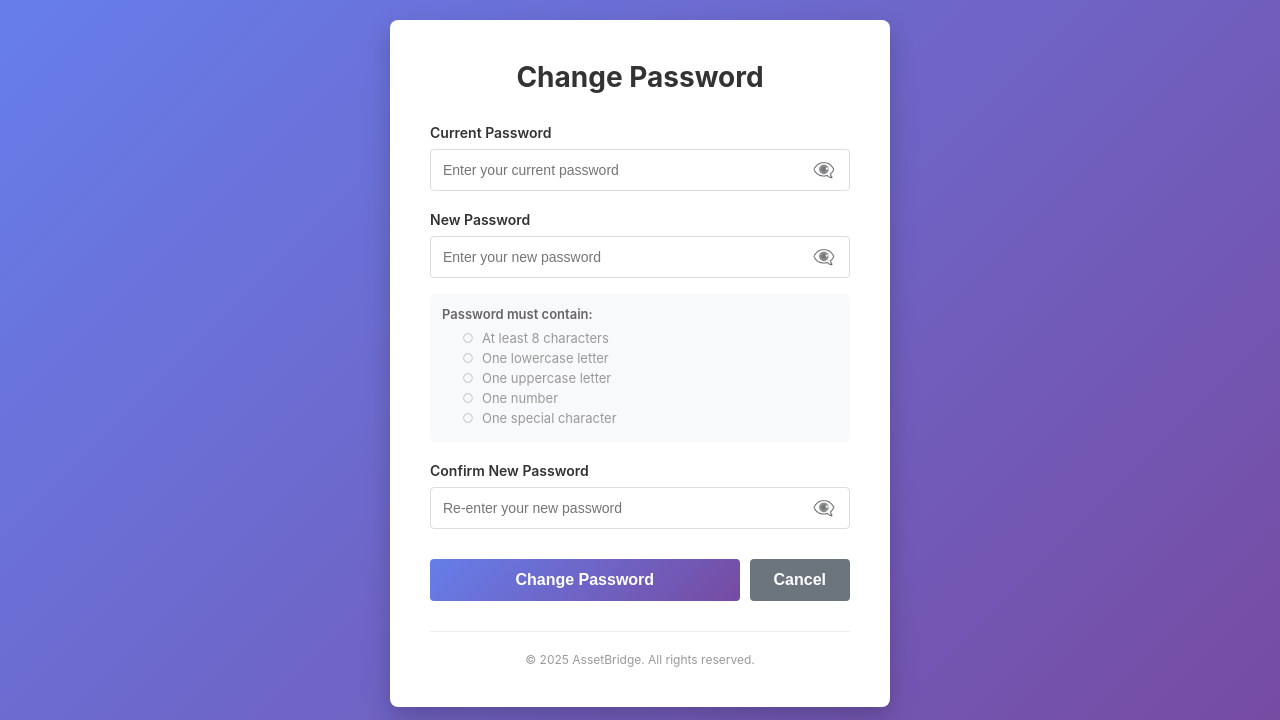
Scenario: ChangePassword Component › should show success message and redirect after successful password change
This screenshot has width=1280, height=720.
Check: the heading "Change Password" is shown, box [516,60,764,94]
Type "OldPassword123!" into the password field labelled "Current Password" at (640, 170), box [430,149,850,191]
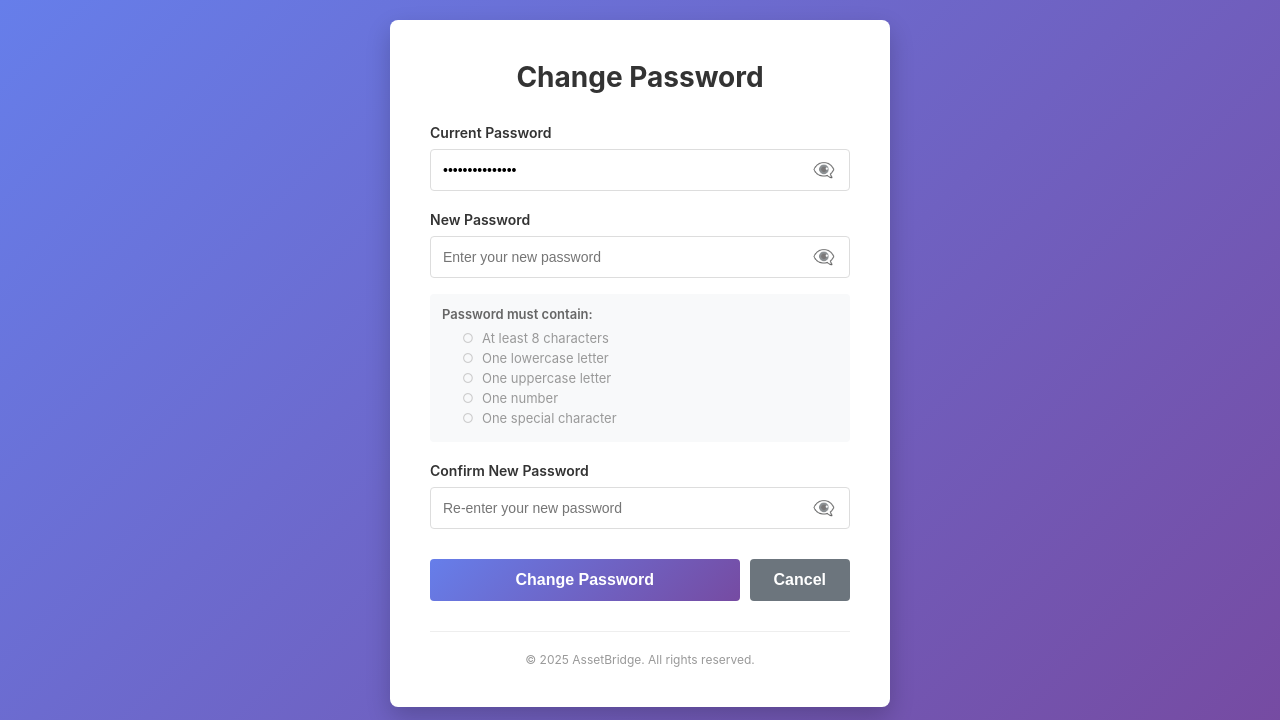
Type "NewPassword123!" into the password field labelled "New Password" at (640, 257), box [430,236,850,278]
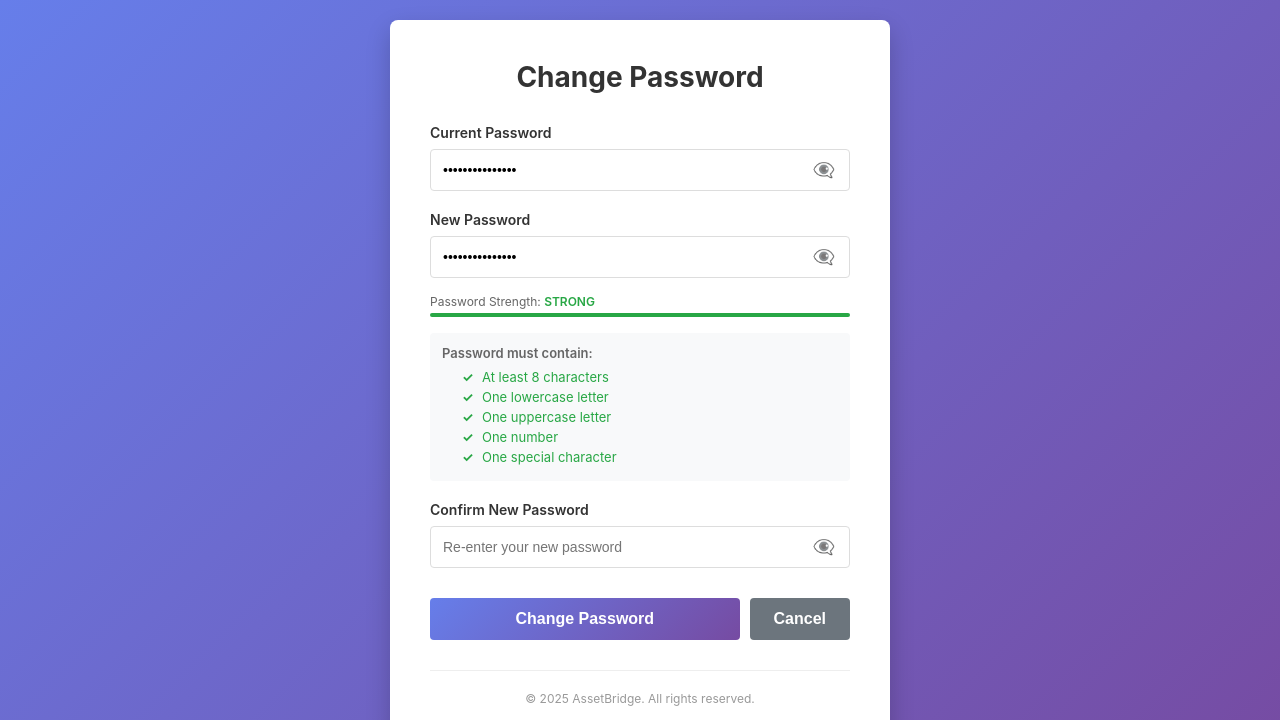
Type "NewPassword123!" into the password field labelled "Confirm New Password" at (640, 547), box [430,526,850,568]
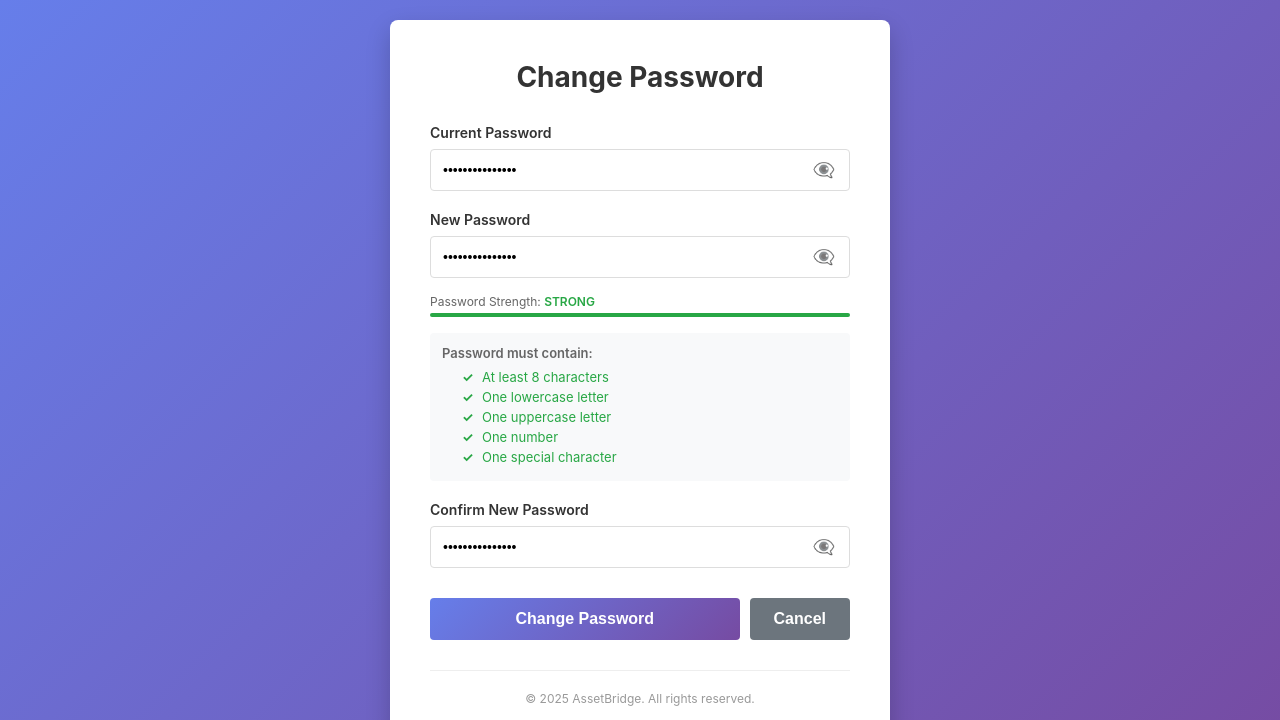
Click the button "Change Password" at (585, 619), box [430,598,740,640]
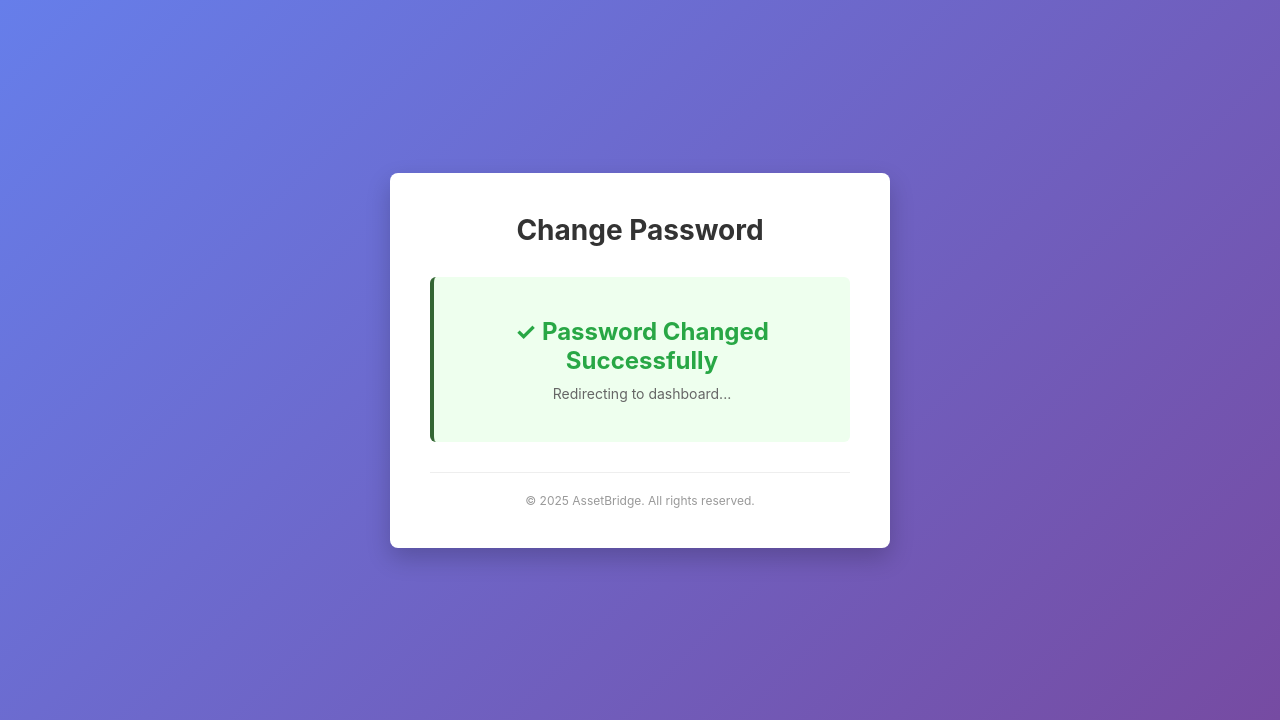
Check: the heading "✓ Password Changed Successfully" is shown, box [515,316,769,374]
